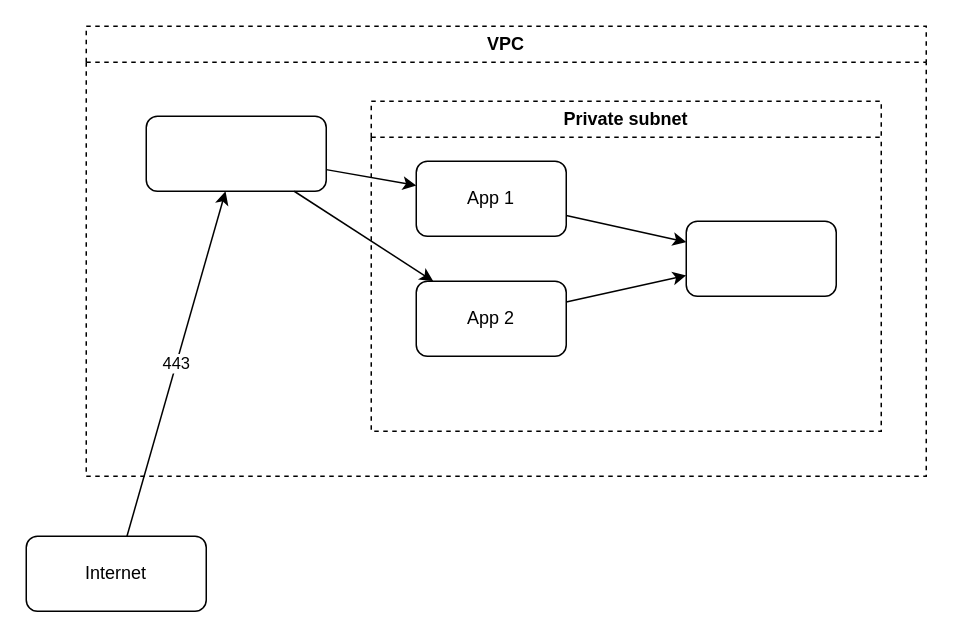
Image size: 953x638. Some labels were removed from this diagram. Each missing label, with the centre of its shape:
"Database" goes at [760,258].
"Load Balancer" goes at [235,153].
